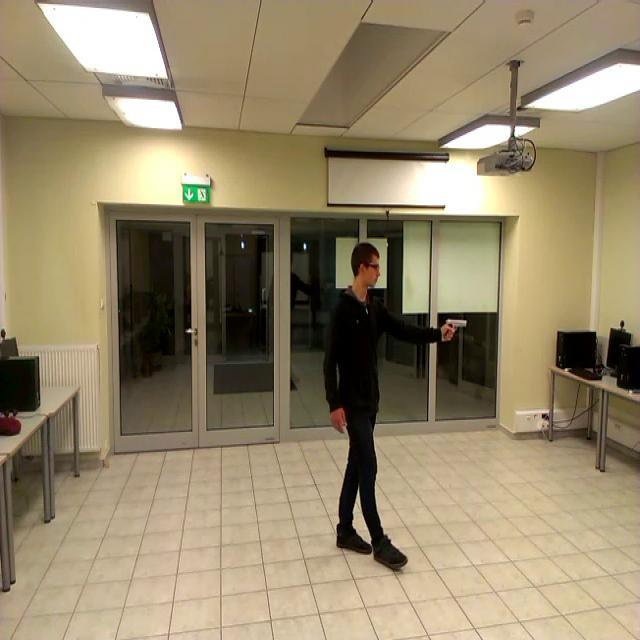Gun: (444, 317, 468, 338)
